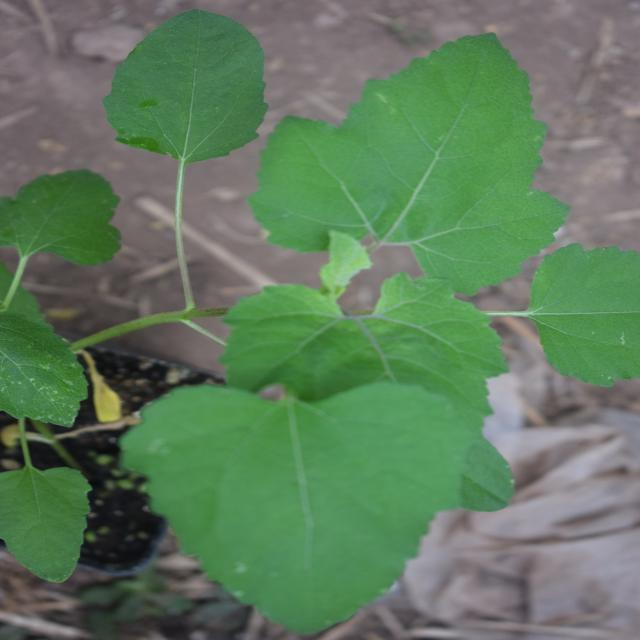cocklebur: (21, 26, 596, 502)
